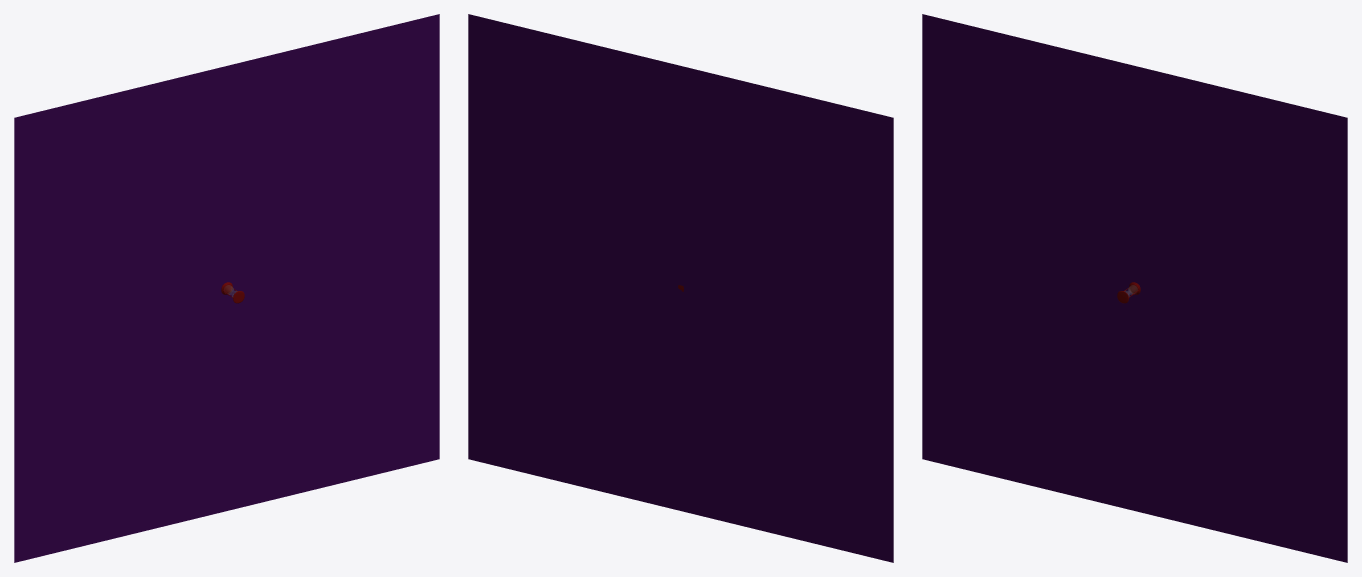
Rendered from empty hourglass.fbx.
3 renders of one model, left to right at view 1: azimuth 30°, elevation 25°; view 2: azimuth 150°, elevation 25°; view 3: azimuth 330°, elevation 25°, orthographic.
Visible parts, largest first — view 1: Plane; view 2: Plane; view 3: Plane.
Boxes of the visible parts, bbox=[...] form: Plane: bbox=[14, 14, 439, 562]; Plane: bbox=[468, 14, 893, 562]; Plane: bbox=[922, 14, 1347, 562].
Size of the model in its own units: 8.6 by 8.6 by 0.42.
